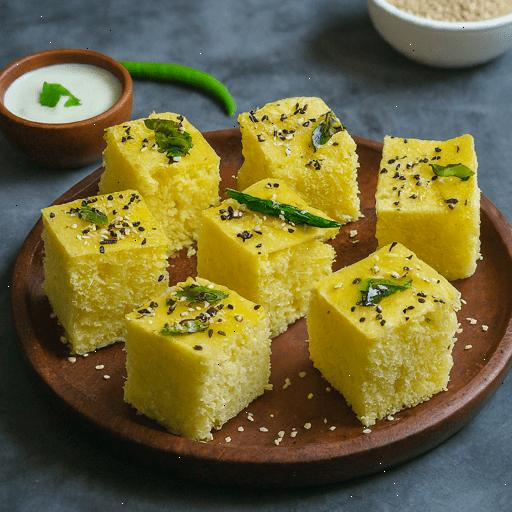yellow dhokla: (310, 236, 468, 429), (36, 184, 175, 366)
yogurt: (3, 47, 133, 129)
